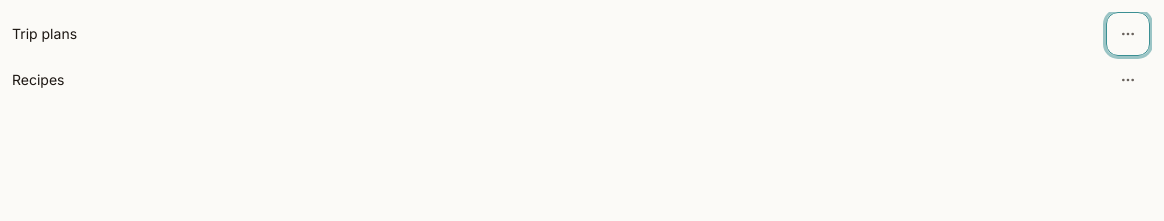
SidebarList ⋯ menus › Escape returns focus to the chat row's ⋯, which is the stand-in again
Click the button named "Actions for Trip plans" at (1128, 34), box [1106,12,1150,56]
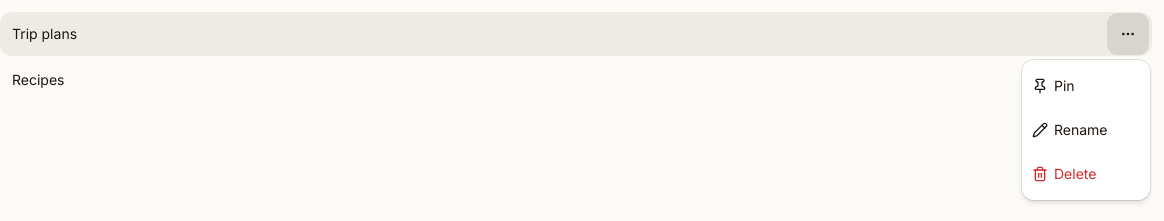
Expected: the menu is shown
Press Escape in the menu, box [1022,60,1150,200]
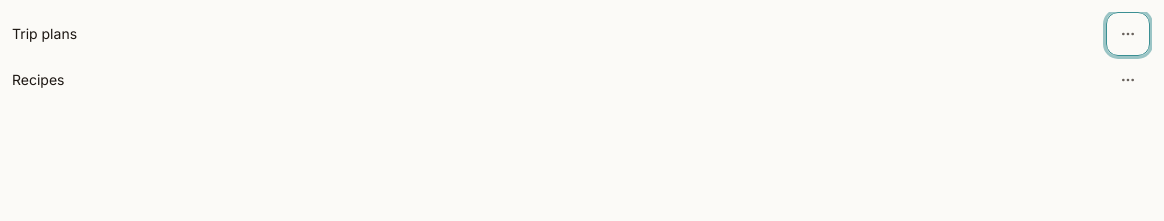
Expected: the menu is gone
